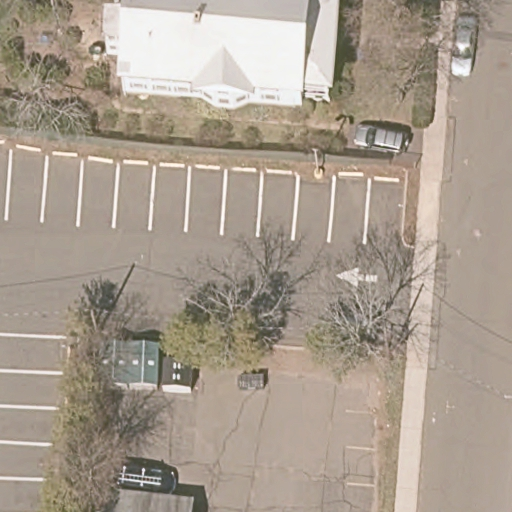DT: (371, 309, 409, 357), (81, 297, 106, 343)
